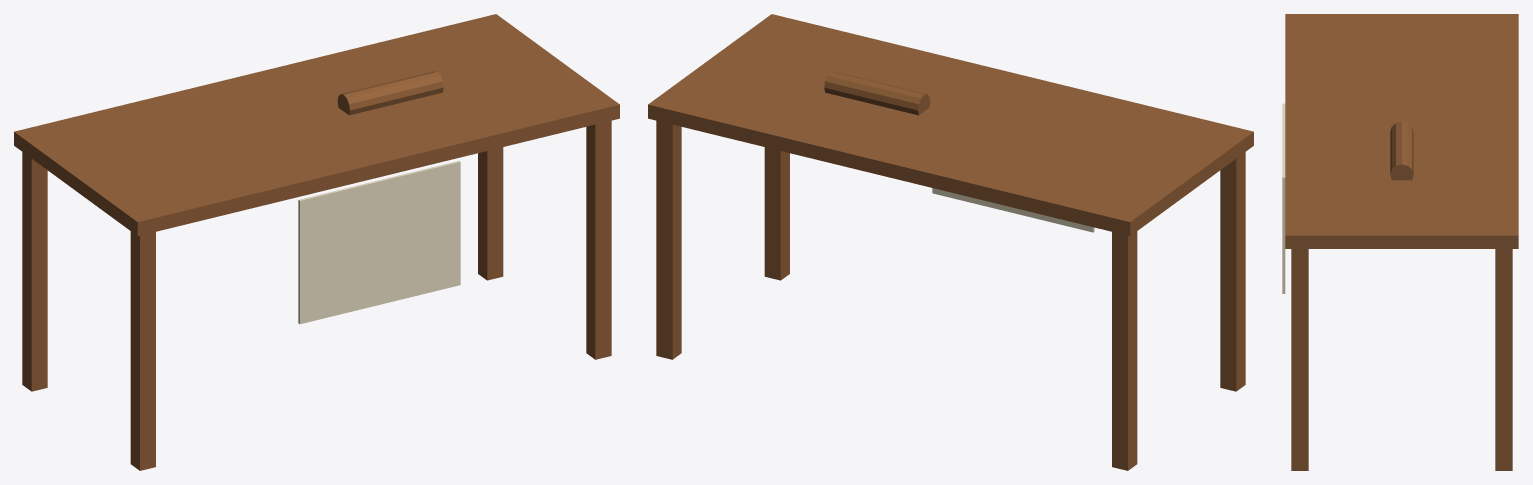
File: rolling_table.obj
3 views of the same model, side by side, from view 1: azimuth 30°, elevation 25°; view 2: azimuth 150°, elevation 25°; view 3: azimuth 270°, elevation 25° (orthographic). The views are drawn at different scales.
Visible parts, largest first — view 1: rolling_table; view 2: rolling_table; view 3: rolling_table.
Part boxes in pixels (bbox=[...]): rolling_table: bbox=[14, 14, 619, 470]; rolling_table: bbox=[648, 14, 1253, 470]; rolling_table: bbox=[1282, 14, 1518, 470].
Size of the model in its own units: 1.8 by 0.96 by 0.81.
